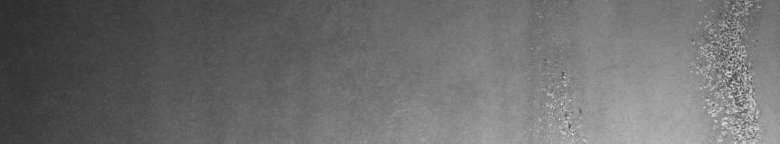hc: (690, 4, 761, 136)
